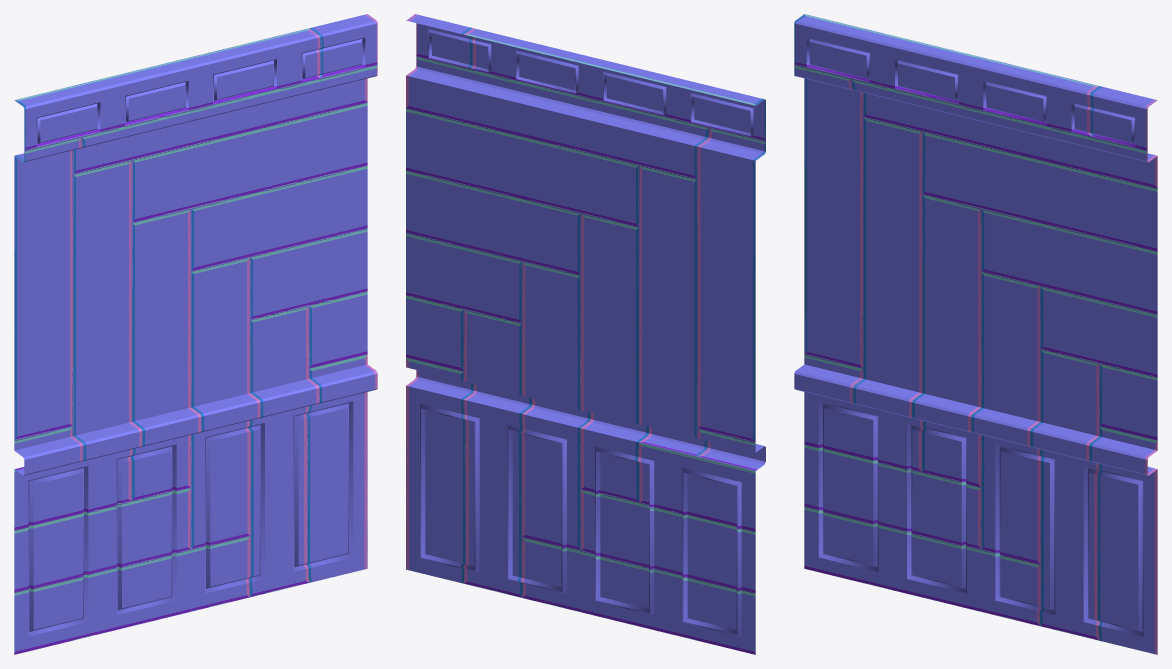
File: Foyer Wall NEW.fbx
The picture shows the model from 3 angles, left to right: view 1: azimuth 30°, elevation 25°; view 2: azimuth 150°, elevation 25°; view 3: azimuth 330°, elevation 25°; orthographic projection.
Parts seen in each view (by area): view 1: Normal_Wall; view 2: Normal_Wall; view 3: Normal_Wall.
Boxes of the visible parts, x1,y1,x2,y2 form: Normal_Wall: (14, 14, 377, 654); Normal_Wall: (406, 14, 765, 654); Normal_Wall: (794, 14, 1157, 654).
Bounding box in the file's own units: 200 × 300 × 11.67.
